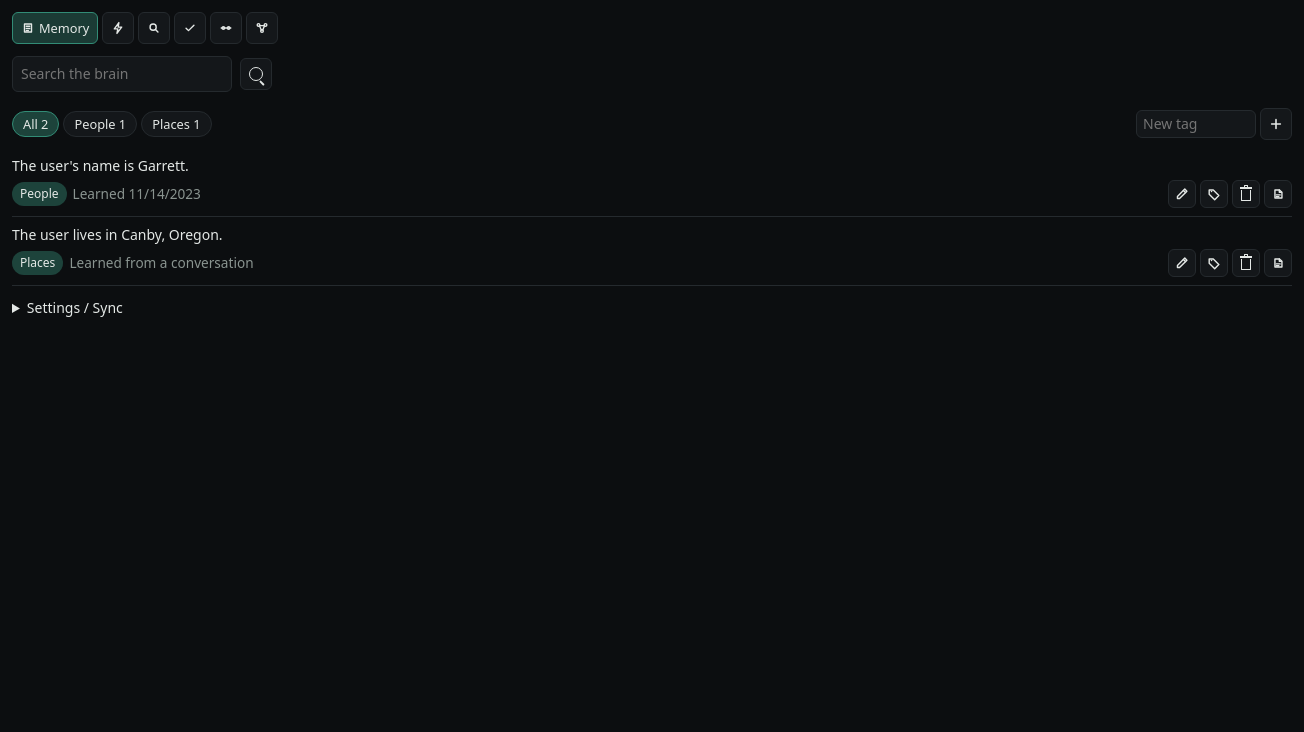
Test: BrainMapView › keeps the brain views in one compact icon tab row with names and a label on the active tab
Expected: the text "The user's name is Garrett." is shown, [12,156,189,175]
Expected: the 1st icon with class "maia-brain-tab-icon" is shown, [21,21,35,35]
Click the tab named "Graph": {"x": 262, "y": 28} [246,12,278,44]
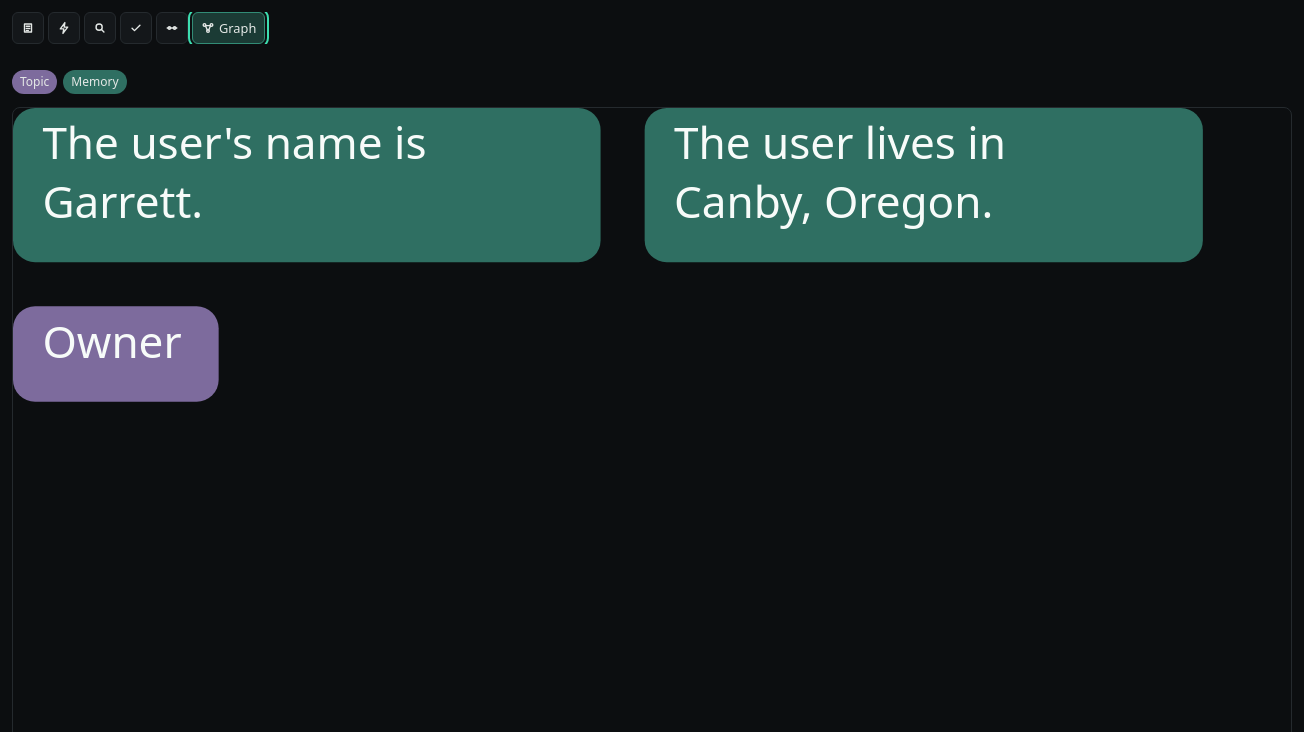
Expected: the tab named "Memory" does not show "Memory", [12,12,44,44]
Now the tab "Graph" is shown, box [192,12,265,44]
